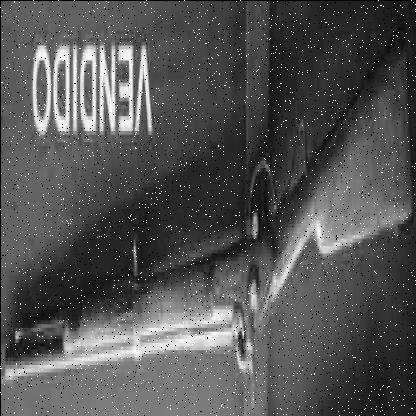rifle: (1, 18, 413, 408)
